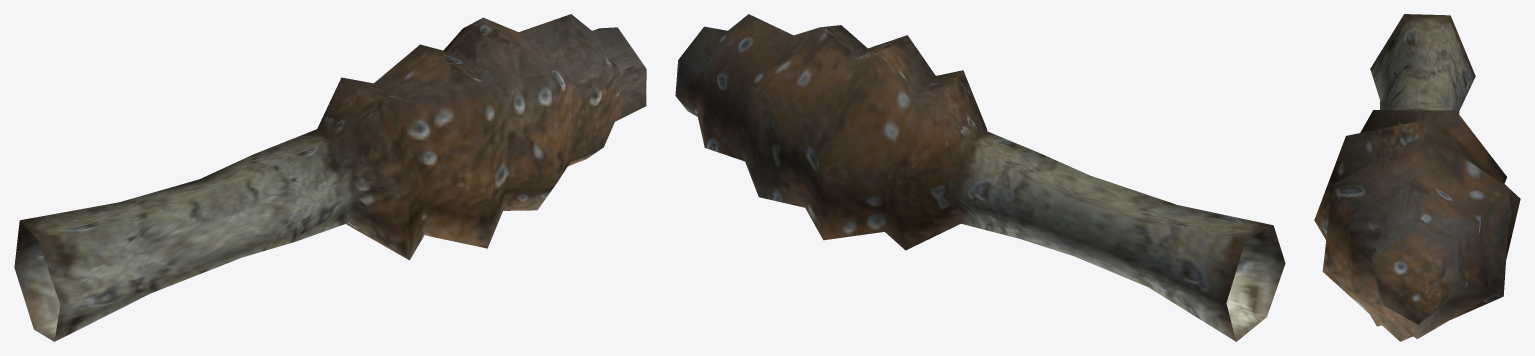
The model's file is 01_ING_mushroom_morcilla.glb.
3 renders of one model, left to right at view 1: azimuth 30°, elevation 25°; view 2: azimuth 150°, elevation 25°; view 3: azimuth 270°, elevation 25°, orthographic. The views are drawn at different scales.
Parts seen in each view (by area): view 1: 01_ING_mushroom_morcilla; view 2: 01_ING_mushroom_morcilla; view 3: 01_ING_mushroom_morcilla.
Boxes of the visible parts, bbox=[...] form: 01_ING_mushroom_morcilla: bbox=[14, 14, 646, 341]; 01_ING_mushroom_morcilla: bbox=[675, 14, 1285, 341]; 01_ING_mushroom_morcilla: bbox=[1314, 14, 1520, 341].
Size of the model in its own units: 0.1269 by 0.0421 by 0.0378.
Materials: 1 (1 with a texture image).
